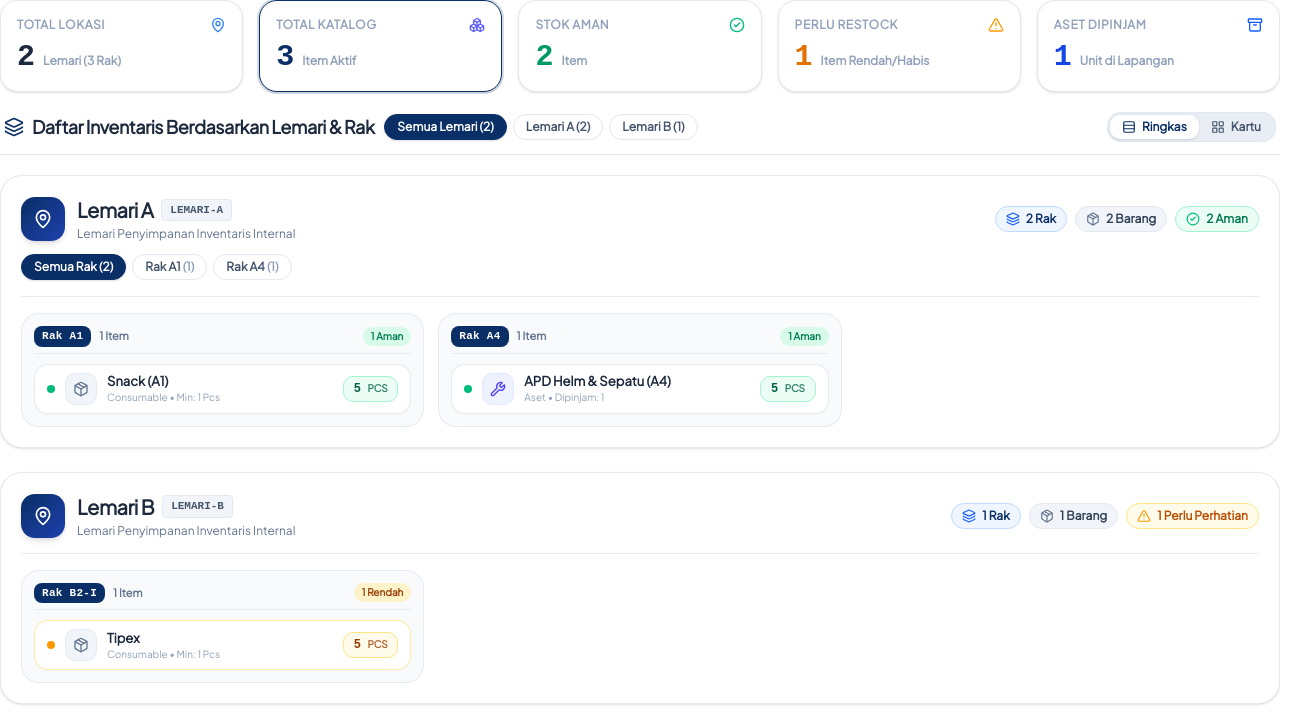
Test: Cabinet -> Multi-Rack Inventory Matrix › renders Compact Matrix by default, switches to Cards mode, and supports interactive KPI filtering
The width and height of the screenshot is (1292, 720).
Check: the number of elements with test id "compact-item-row" is 3, box [34,364,411,414]; [451,364,829,414]; [34,620,411,670]
Check: the text "Lemari (3 Rak)" is shown, box [43,53,121,69]
Click the button "Perlu Restock 1 Item Rendah/Habis". click: (899,46)
box: [778,0,1021,92]
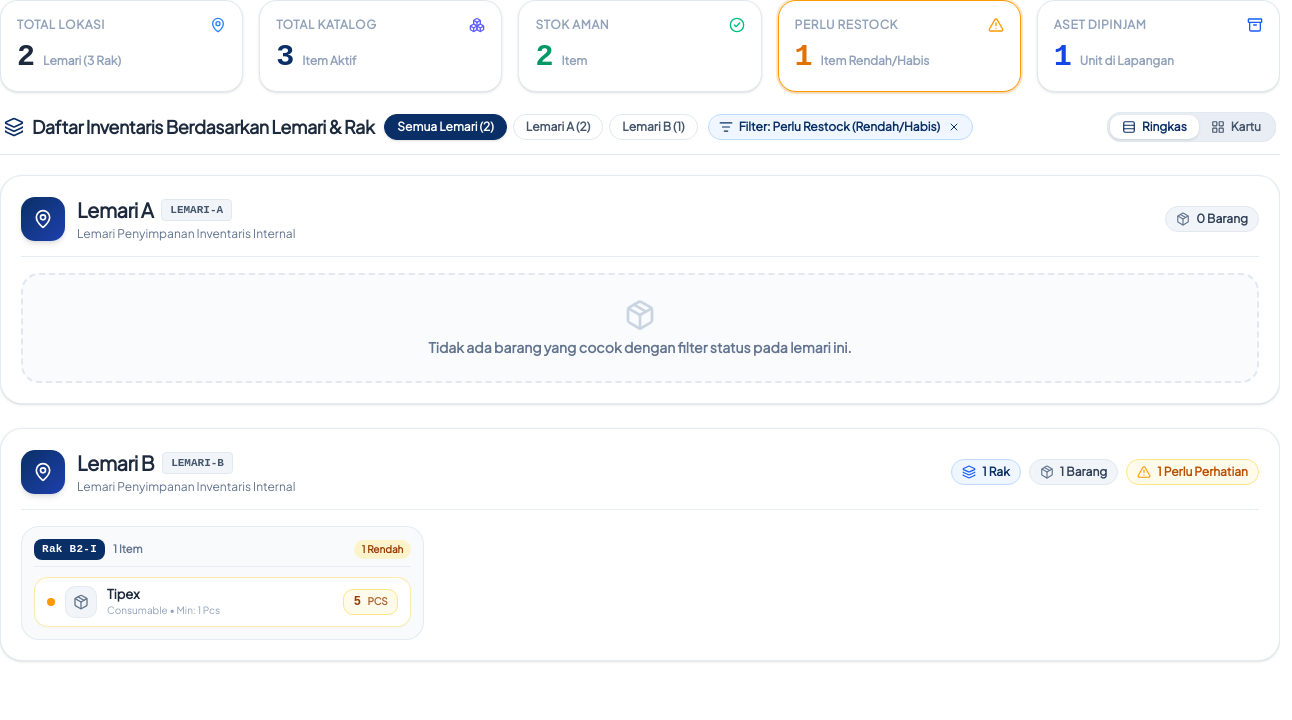
Check: the text "Tipex" is shown, box [107,586,140,602]
Check: the text "Snack (A1)" is gone
Click the button "Perlu Restock 1 Item Rendah/Habis". click: (899,46)
box: [778,0,1021,92]
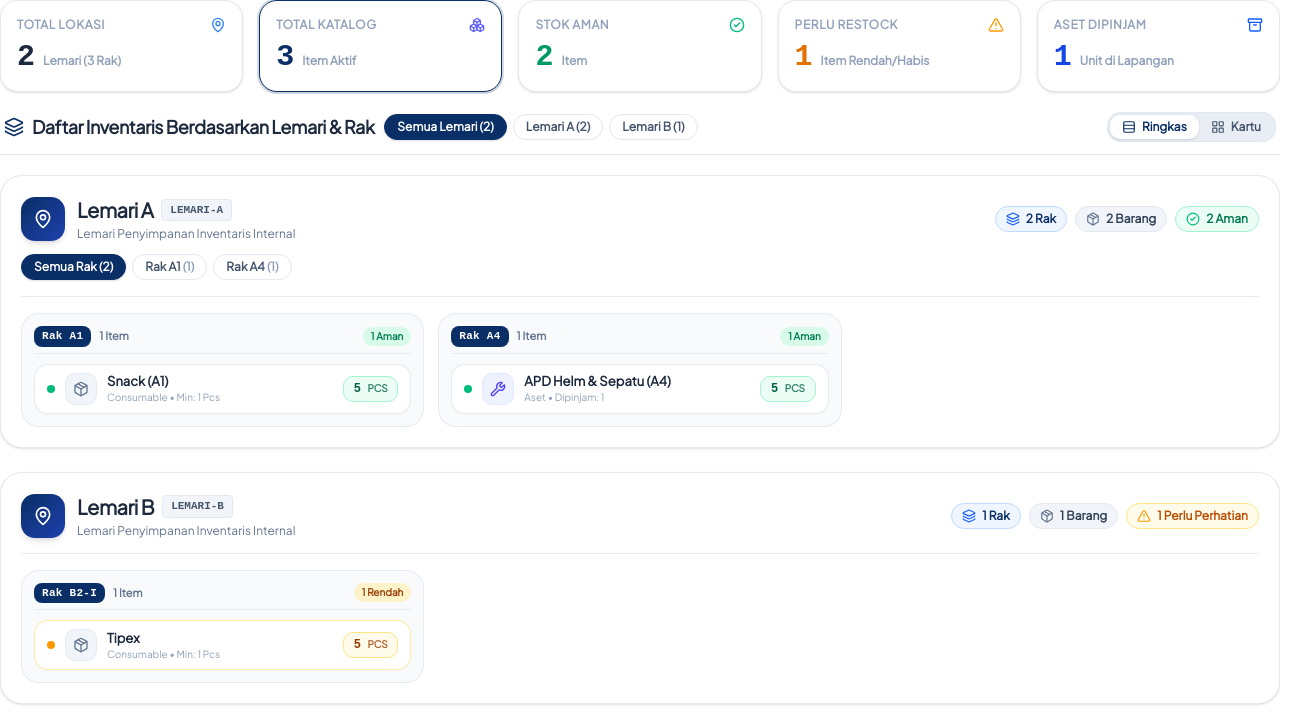
Check: the text "Snack (A1)" is shown, box [107,373,168,389]
Click the button "Aset Dipinjam 1 Unit di Lapangan". click: (1158,46)
box: [1037,0,1280,92]
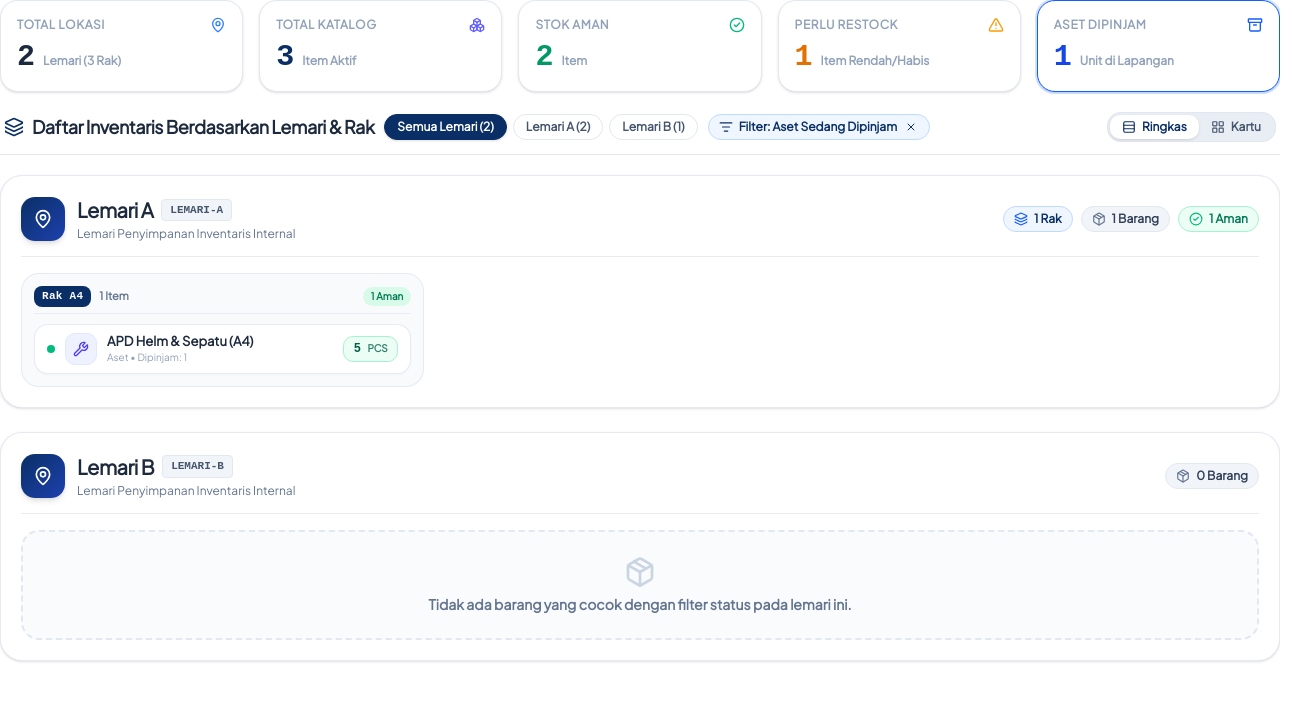
Check: the text "APD Helm & Sepatu (A4)" is shown, box [107,333,253,349]
Check: the text "Tipex" is gone
// Reset filter & switch view mode to "Kartu"
Click the button "Total Katalog 3 Item Aktif". click: (381,46)
box: [259,0,502,92]
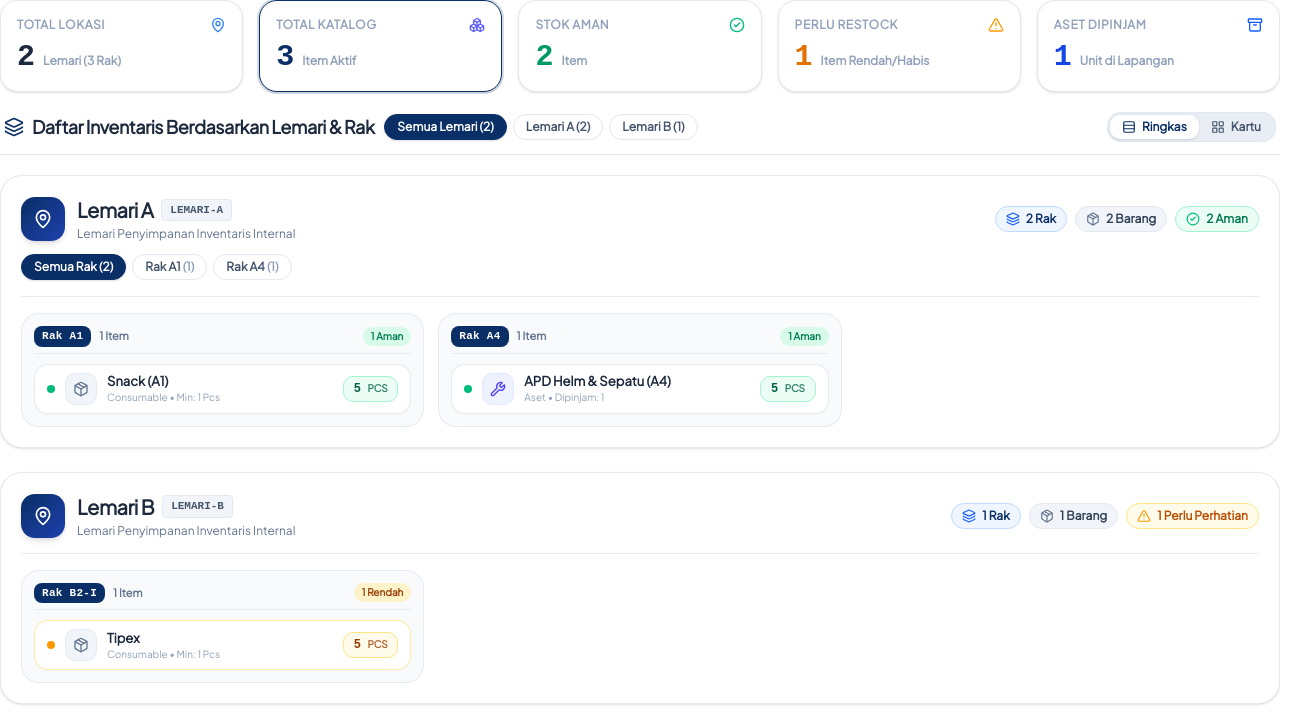
Click the button "Kartu". click: (1236,127)
box: [1199,115,1273,139]
(page scrolled)
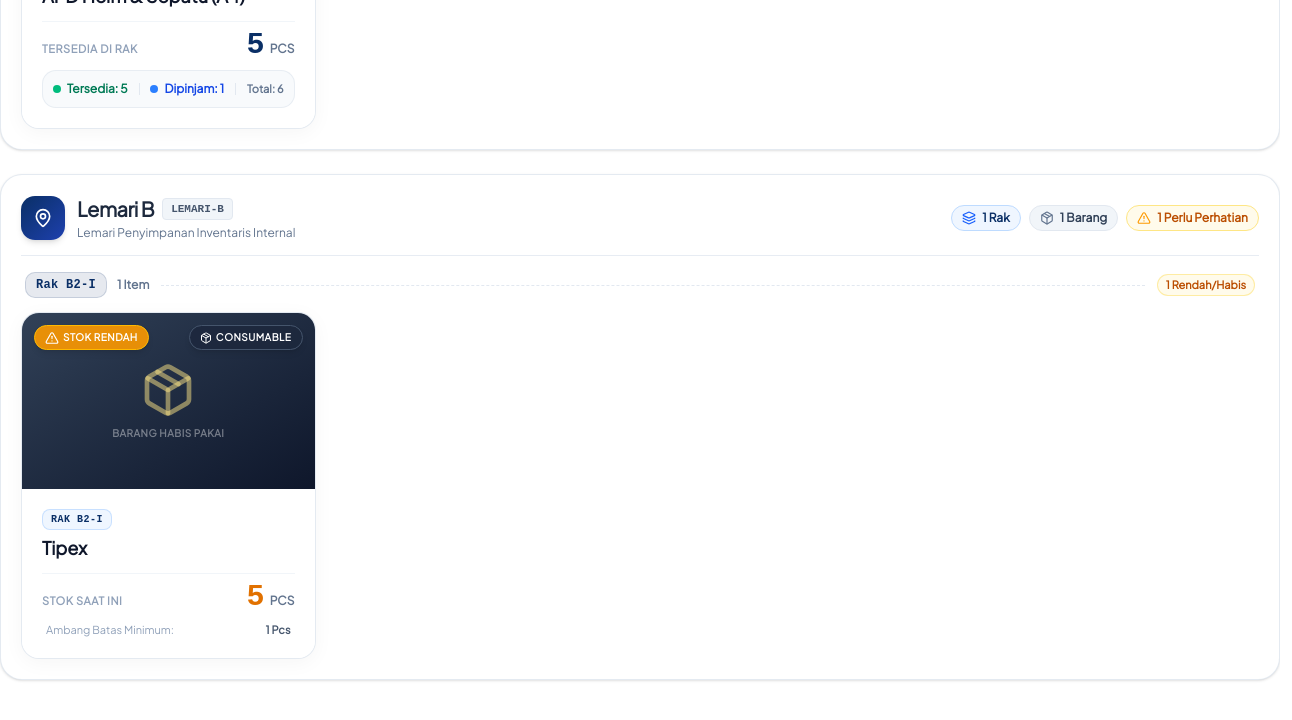
Check: the heading "Tipex" is shown, box [42,536,87,559]
Check: no elements with test id "compact-item-row" are shown
